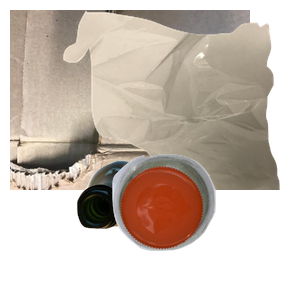cardboard: (10, 10, 250, 190)
glass: (74, 158, 223, 300)
plastic: (110, 152, 300, 300)
trash: (61, 10, 300, 190)
